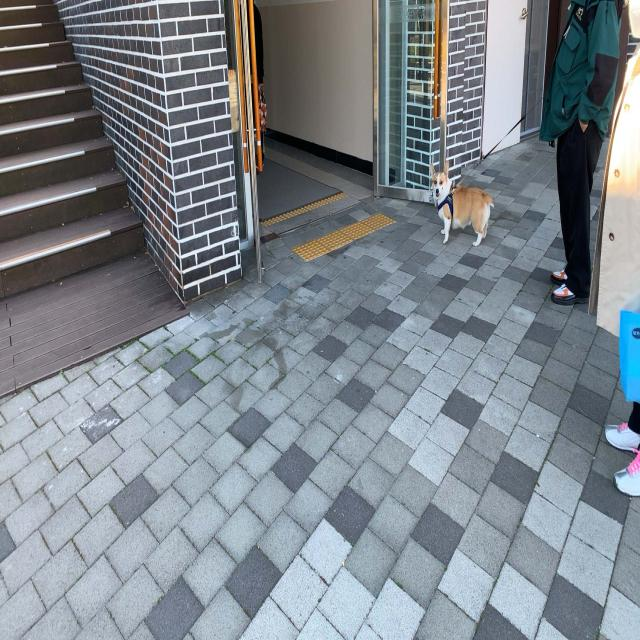Leashed_Dog: (429, 85, 571, 248)
